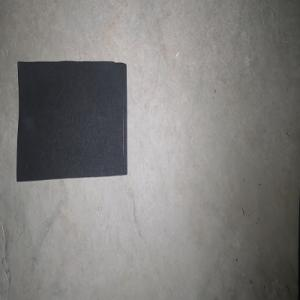PaintChip: (16, 60, 127, 181)
